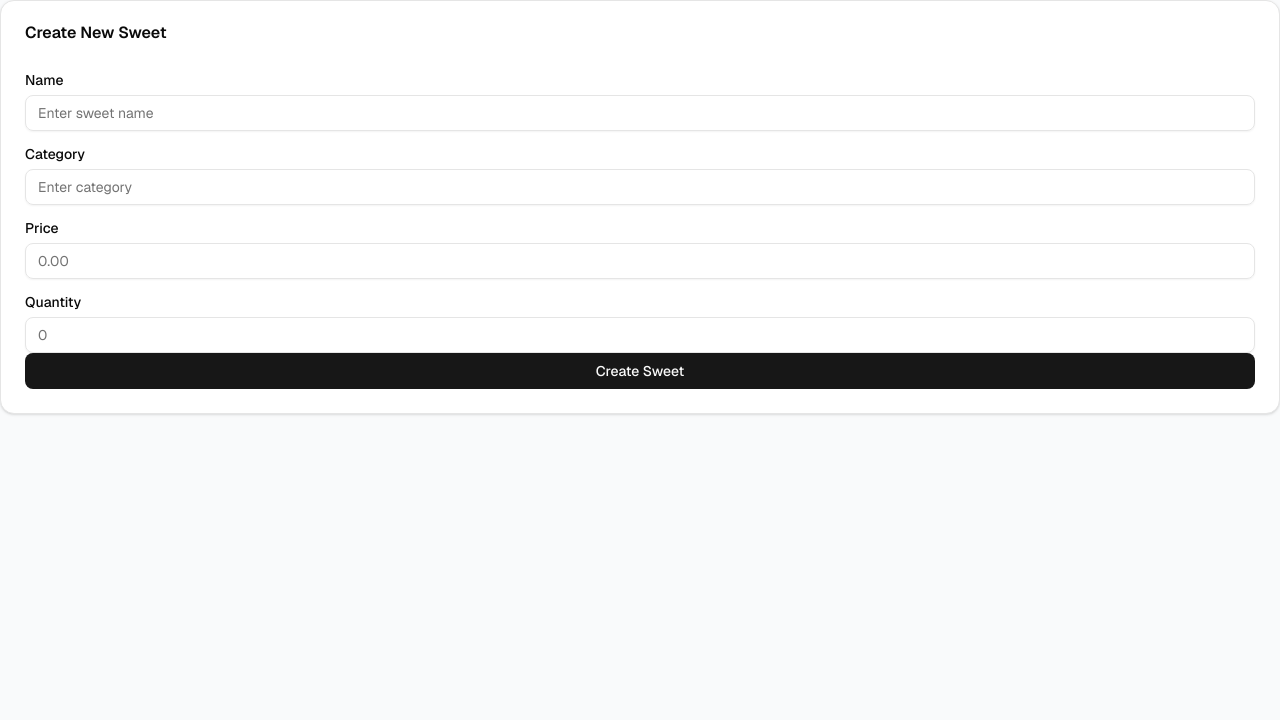
Test: AdminForm › validates that all fields are required
The image size is (1280, 720).
Click the button "Create Sweet": (640, 371) [25,353,1255,389]
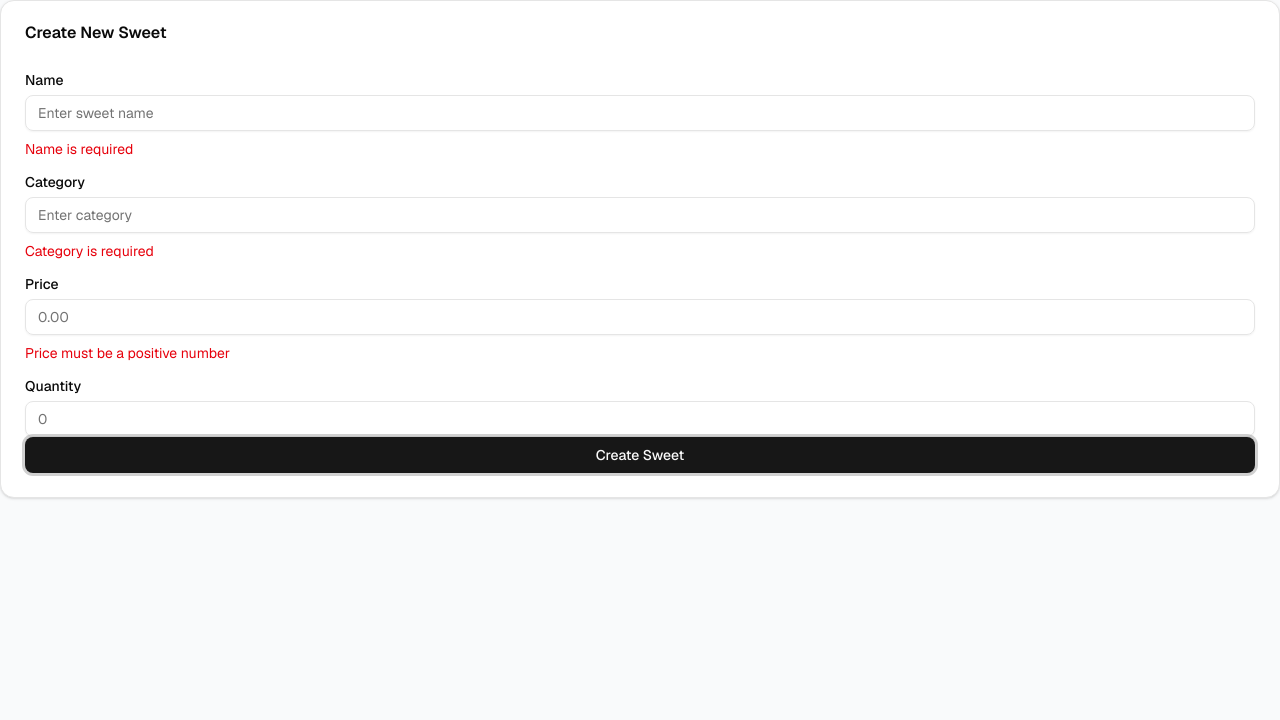
Check: the text "Name is required" is shown, box [25,140,133,158]
